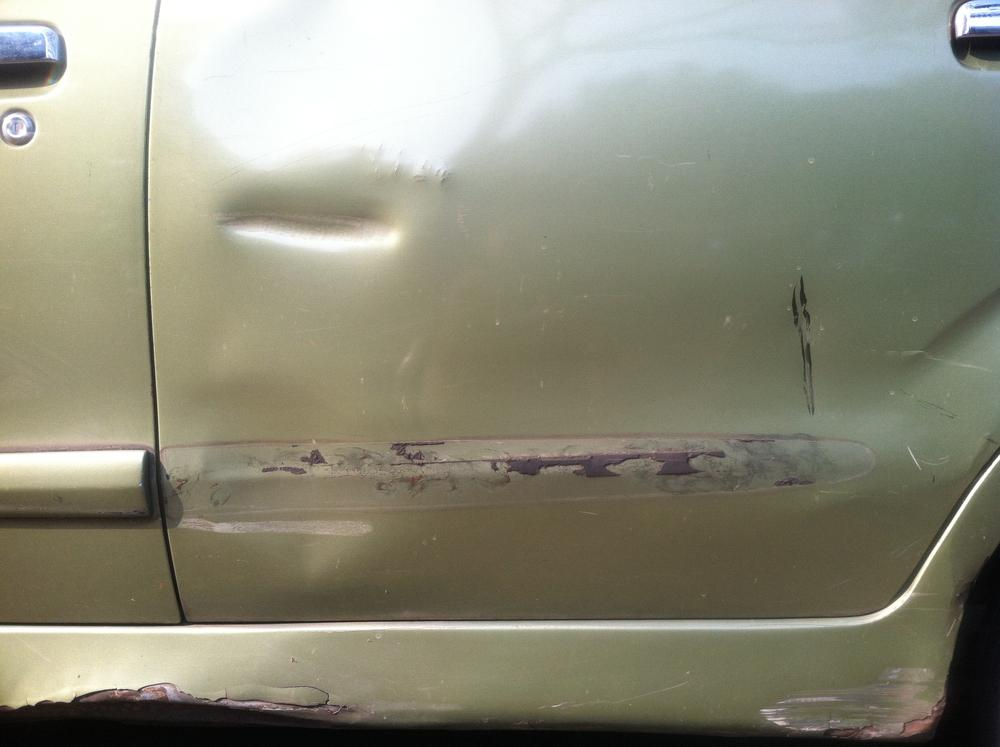dent: (199, 3, 503, 171), (201, 374, 364, 576), (218, 194, 400, 250)
scratch: (361, 433, 872, 512), (753, 661, 950, 738), (783, 263, 822, 418)
